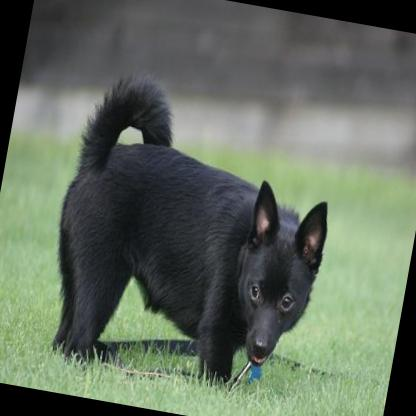schipperke: (33, 62, 346, 395)
